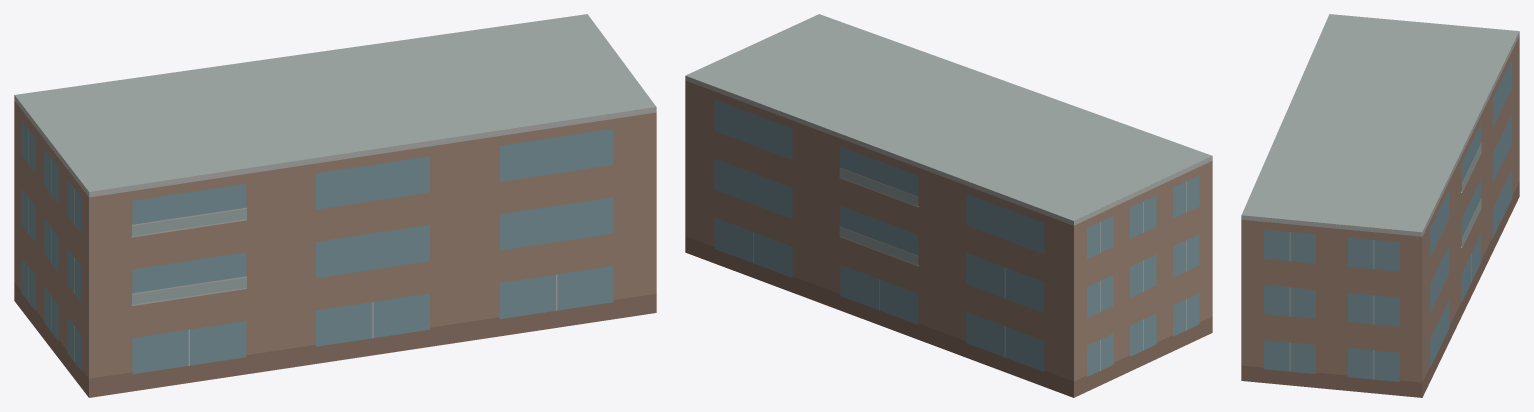
File: survey-upis-32707017.glb
3 renders of one model, left to right at view 1: azimuth 30°, elevation 25°; view 2: azimuth 150°, elevation 25°; view 3: azimuth 270°, elevation 25°, orthographic. The views are drawn at different scales.
Visible parts, largest first — view 1: survey-upis-32707017.tmp; view 2: survey-upis-32707017.tmp; view 3: survey-upis-32707017.tmp.
Part boxes in pixels (<box>): survey-upis-32707017.tmp: <box>14,14,656,397</box>; survey-upis-32707017.tmp: <box>685,14,1212,397</box>; survey-upis-32707017.tmp: <box>1241,14,1519,397</box>.
Size of the model in its own units: 25.88 by 9.15 by 13.94.
